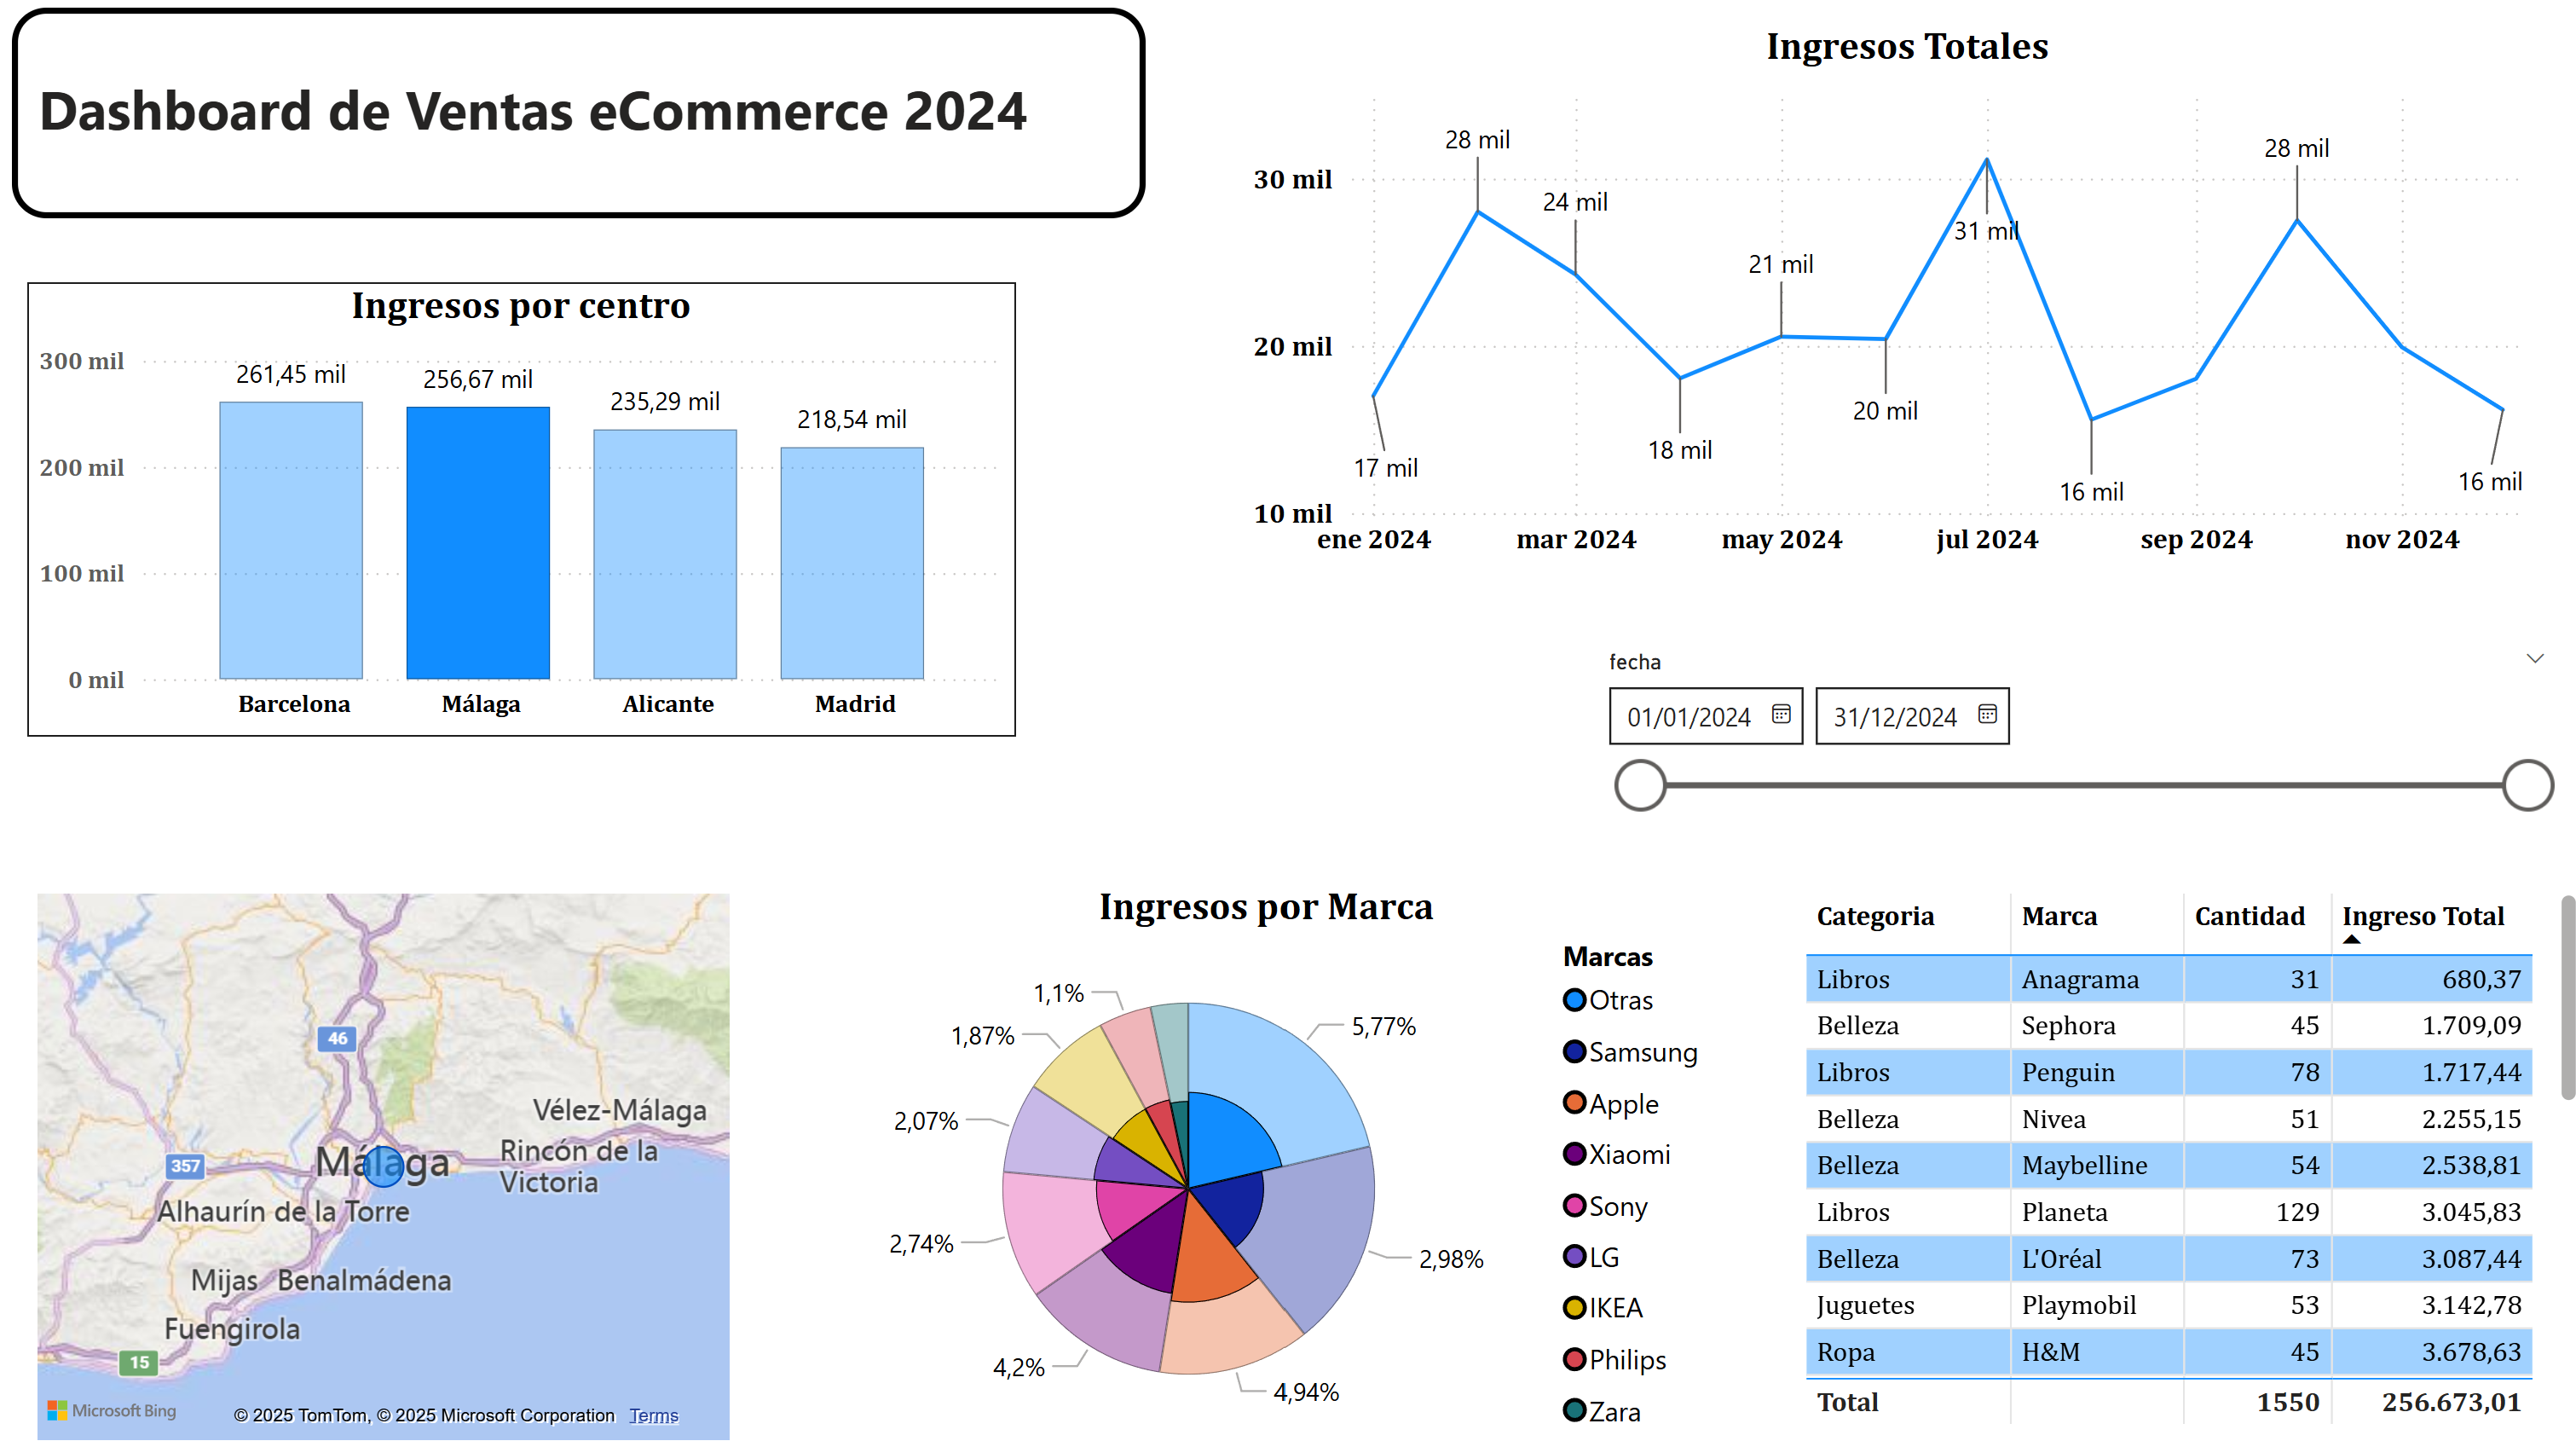

The dashboard page shown, as its layout file describes it:
{"tool":"powerbi","page":{"name":"DashBoard","canvas":[1280,720],"ordinal":0},"visuals":[{"type":"textbox","box":[8,8,560,104],"z":0},{"type":"lineChart","title":"Ingresos Totales","fields":{"Category":["Sheet1.fecha.Variación.Jerarquía de fechas.Año","Sheet1.fecha.Variación.Jerarquía de fechas.Trimestre","Sheet1.fecha.Variación.Jerarquía de fechas.Mes","Sheet1.fecha.Variación.Jerarquía de fechas.Día"],"Y":["Sum(Sheet1.ingreso_total)"]},"box":[616,16,656,272],"z":1000},{"type":"pieChart","title":"Ingresos por Marca","fields":{"Category":["Sheet1.Marca Agrupada"],"Y":["Sum(Sheet1.ingreso_total)"]},"box":[400,440,456,280],"z":2000},{"type":"columnChart","title":"Ingresos por centro","fields":{"Category":["Tabla.ciudad"],"Y":["Sum(Sheet1.ingreso_total)"]},"box":[16,144,488,224],"z":3000},{"type":"map","fields":{"Category":["Tabla.ciudad"],"Size":["Sum(Sheet1.ingreso_total)"]},"box":[16,440,352,280],"z":4000},{"type":"tableEx","fields":{"Values":["Sheet1.categoria","Sheet1.marca","Sum(Sheet1.cantidad)","Sum(Sheet1.ingreso_total)"]},"box":[888,440,392,272],"z":5000},{"type":"slicer","fields":{"Values":["Sheet1.fecha"]},"box":[784,320,488,96],"z":6000}]}

Visuals, with their boxes in screenshot pixels (x1, y1, x2, y2), scaled from the page's 1280x720 canvas onto the 2576x1441 screenshot:
textbox: <bbox>16, 16, 1143, 224</bbox>
"Ingresos Totales" lineChart: <bbox>1239, 32, 2560, 576</bbox>
"Ingresos por Marca" pieChart: <bbox>805, 881, 1723, 1440</bbox>
"Ingresos por centro" columnChart: <bbox>32, 288, 1014, 737</bbox>
map - Tabla.ciudad x Sum(Sheet1.ingreso_total): <bbox>32, 881, 741, 1440</bbox>
tableEx - Sheet1.categoria x Sheet1.marca: <bbox>1788, 881, 2575, 1425</bbox>
slicer - Sheet1.fecha: <bbox>1578, 640, 2560, 832</bbox>
